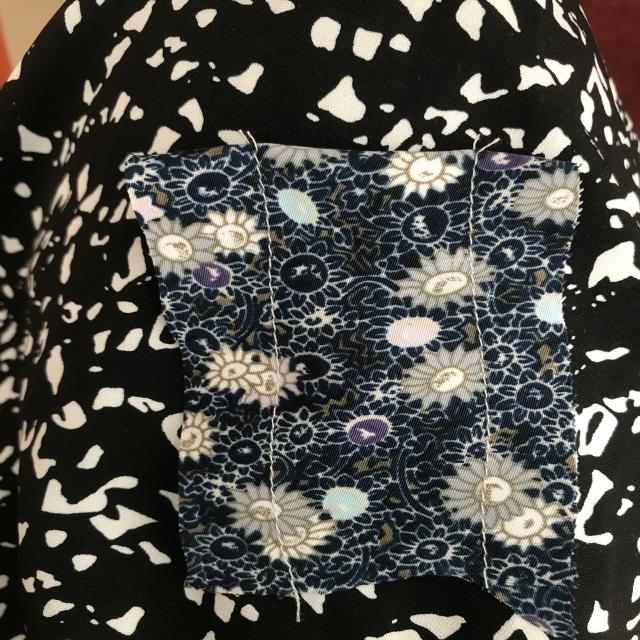good: (462, 316, 504, 432), (256, 249, 298, 348), (260, 410, 294, 475), (458, 186, 486, 258)
